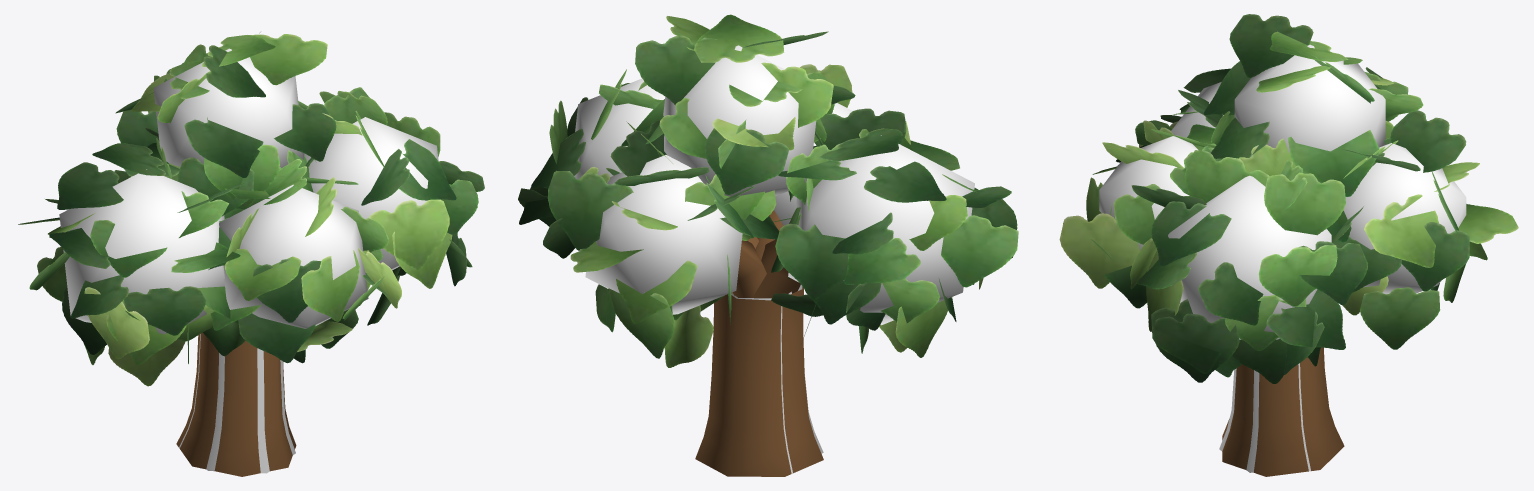
Rendered from tree-wide-summer.lod1.glb.
3 renders of one model, left to right at view 1: azimuth 30°, elevation 25°; view 2: azimuth 150°, elevation 25°; view 3: azimuth 270°, elevation 25°, orthographic. The views are drawn at different scales.
Parts seen in each view (by area): view 1: Crown, Hull, Trunk, Stem; view 2: Crown, Hull, Trunk, Stem; view 3: Crown, Hull, Trunk, Stem.
Boxes of the visible parts, x1=… form: Crown: x1=18, y1=32, x2=484, y2=386; Hull: x1=59, y1=48, x2=438, y2=334; Trunk: x1=176, y1=332, x2=296, y2=476; Stem: x1=179, y1=334, x2=295, y2=473; Crown: x1=518, y1=14, x2=1018, y2=367; Hull: x1=574, y1=45, x2=974, y2=325; Trunk: x1=695, y1=210, x2=823, y2=476; Stem: x1=731, y1=285, x2=823, y2=473; Crown: x1=1059, y1=14, x2=1518, y2=383; Hull: x1=1099, y1=44, x2=1466, y2=339; Trunk: x1=1222, y1=347, x2=1344, y2=476; Stem: x1=1219, y1=363, x2=1310, y2=472.
Size of the model in its own units: 3.73 by 3.23 by 3.24.
4 materials, 1 textured.
